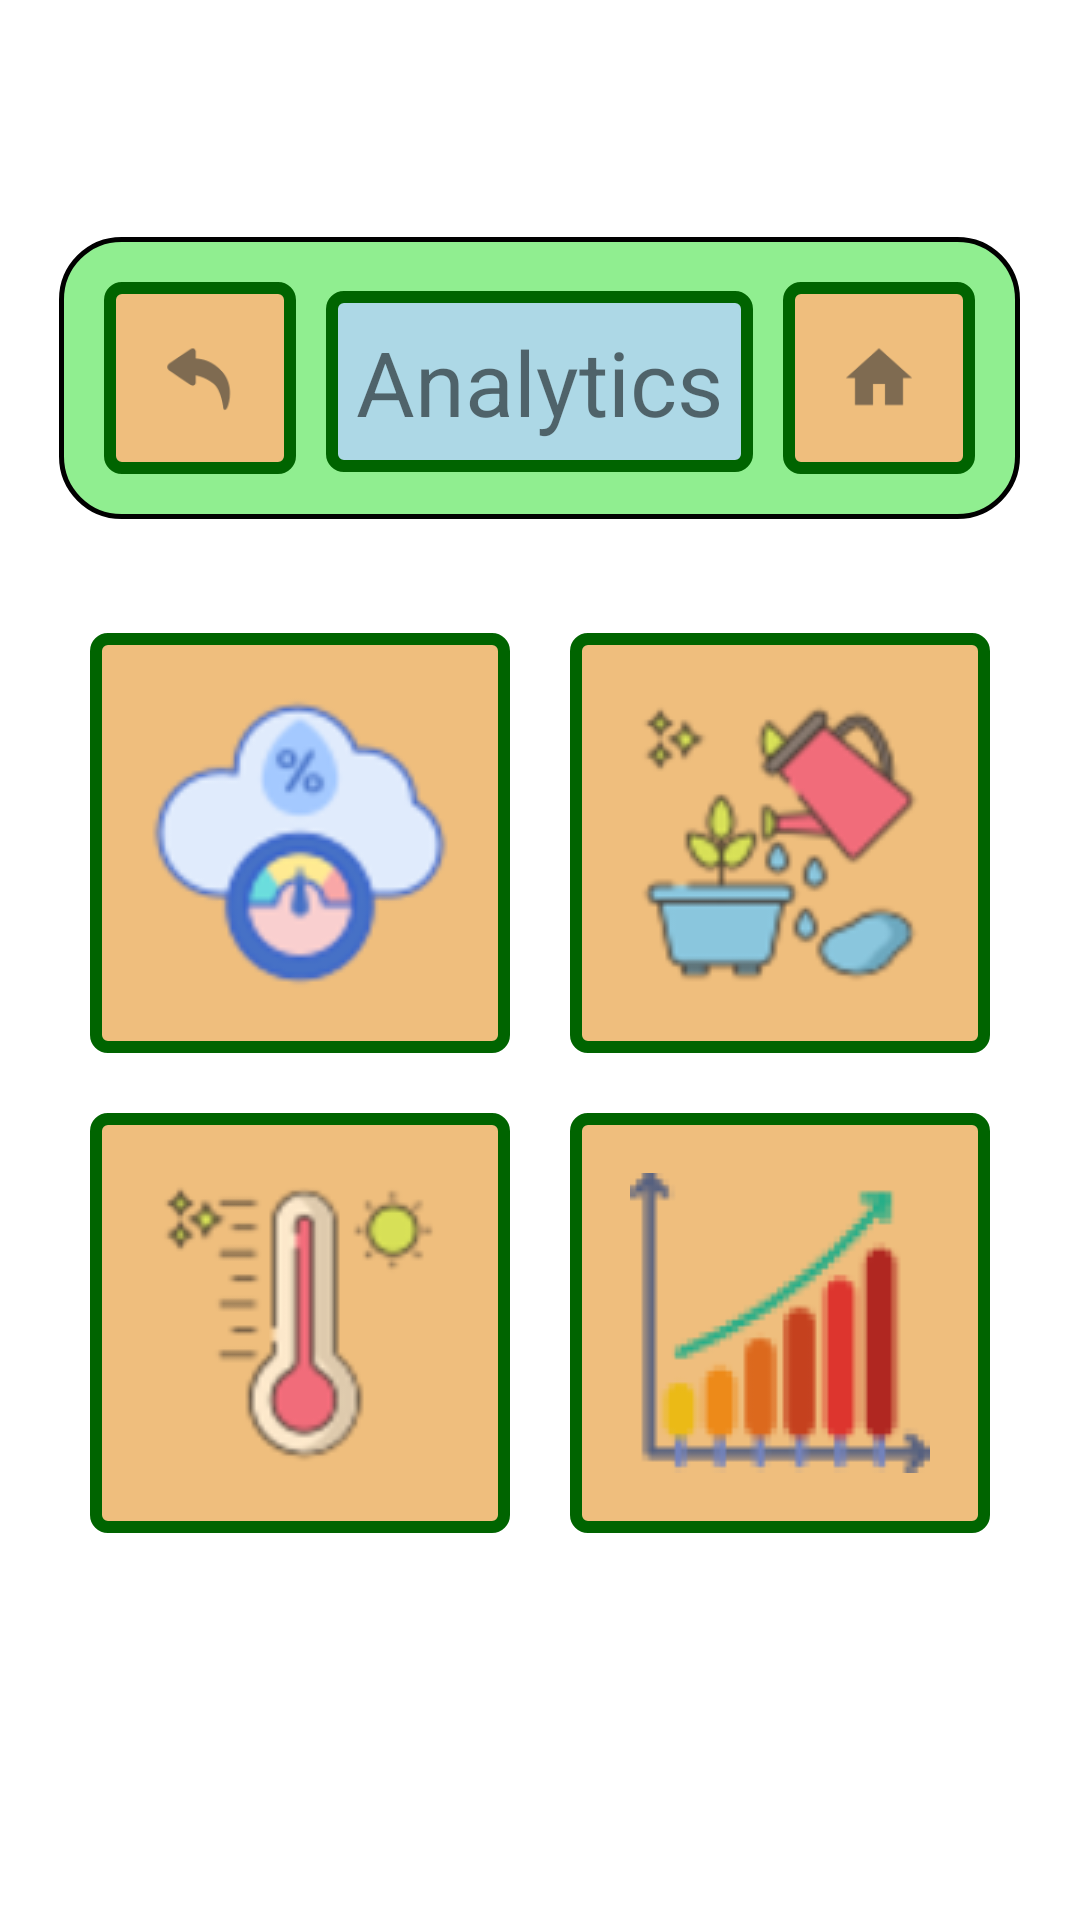

Named icons in this screenshot (1080 x 1920) and their centers, [x,y]:
back: [200,378]
home: [879,378]
